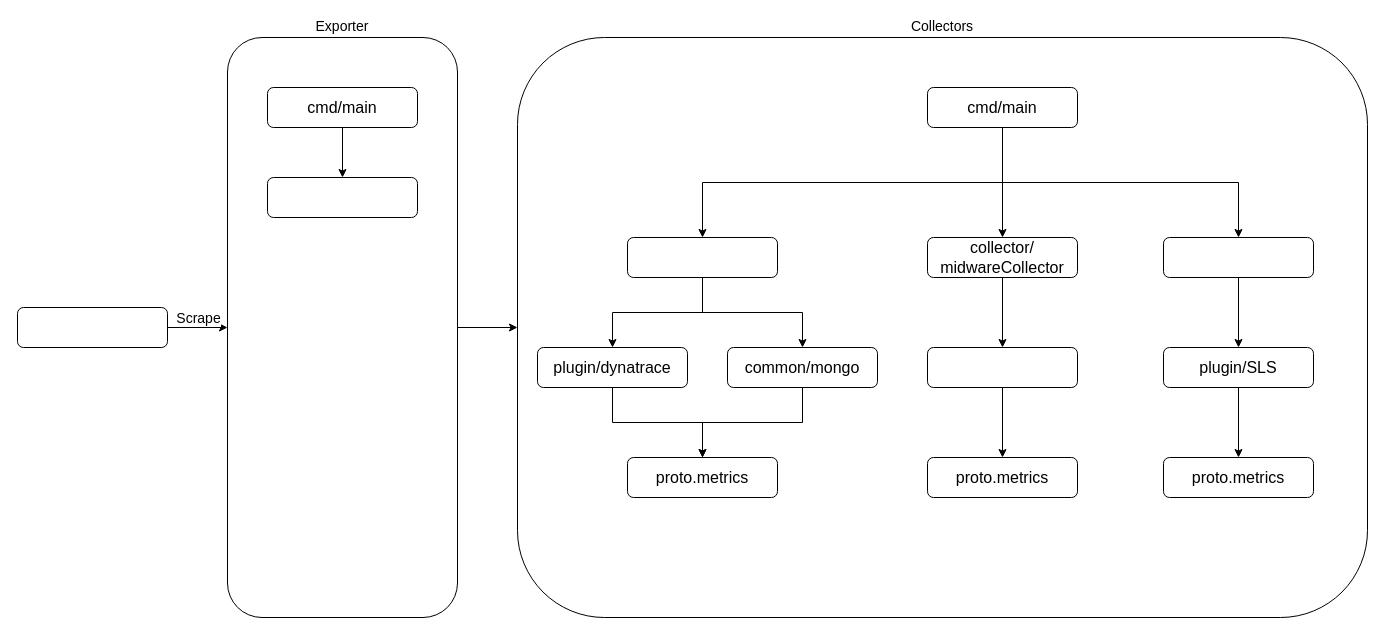
The diagram is 1385 pixels wide and 635 high, and some of its shapes have lost their labels. The shapes that lost their labels are listed below. From the top down, each one's box as (x1, y1, x2, y2) in pixels, then its label:
(266, 176, 418, 218): exporter/server
(626, 236, 778, 278): collector/ dynatraceCollector
(1162, 236, 1314, 278): collector/ gatewayCollector
(16, 306, 168, 348): prometheus
(926, 346, 1078, 388): plugin/Ali CMS
